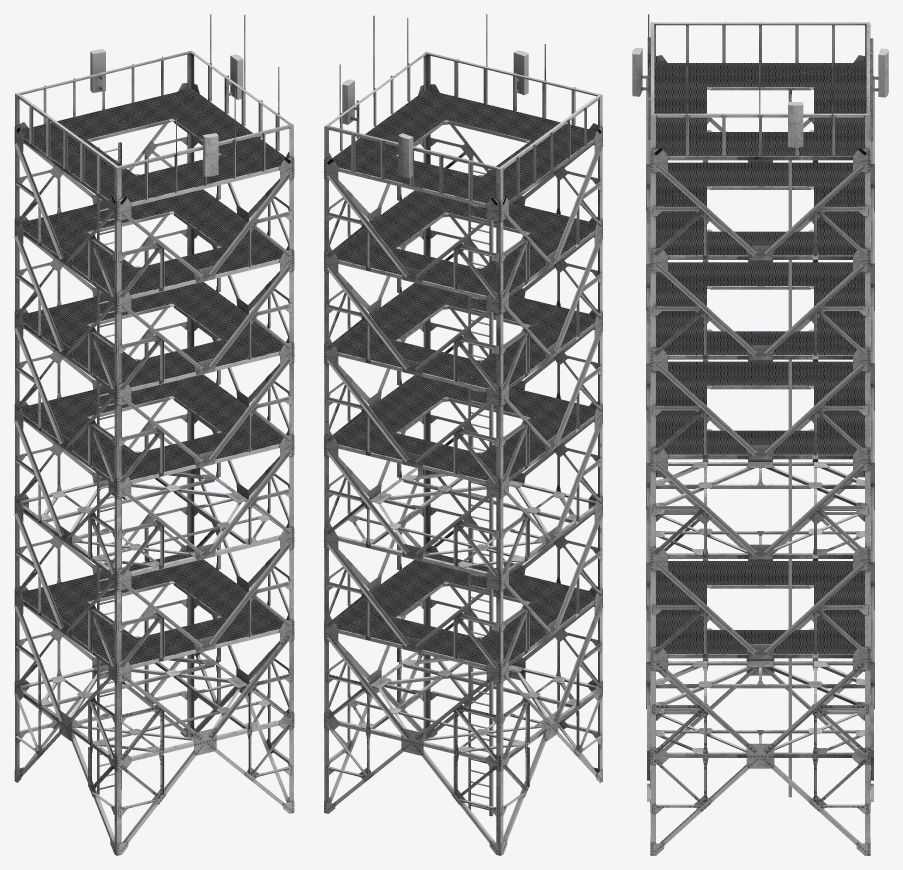
The model's file is transmission_Tower01.gltf.
3 views of the same model, side by side, from view 1: azimuth 30°, elevation 25°; view 2: azimuth 150°, elevation 25°; view 3: azimuth 270°, elevation 25° (orthographic). The views are drawn at different scales.
Parts seen in each view (by area): view 1: top, Plane_A; view 2: top, Plane_A; view 3: top, Plane_A.
Part boxes in pixels (x1,y1,x2,y2): top: (14,14,294,855); Plane_A: (21,88,286,664); top: (323,14,603,855); Plane_A: (331,90,596,665); top: (632,14,888,855); Plane_A: (654,63,866,653).
Bounding box in the file's own units: 52.87 × 197 × 55.91.
Materials: 2 (2 with a texture image).
